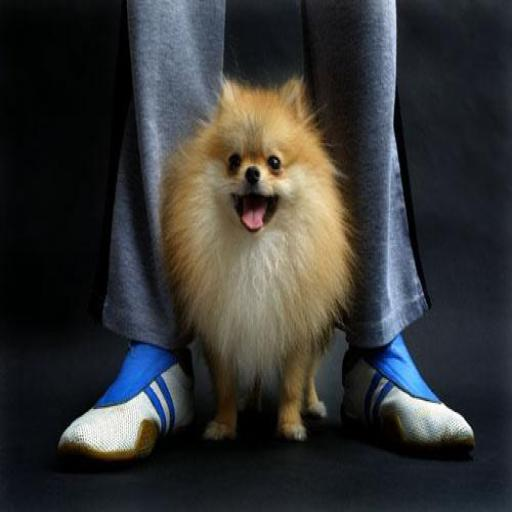dog_face: (212, 78, 303, 240)
